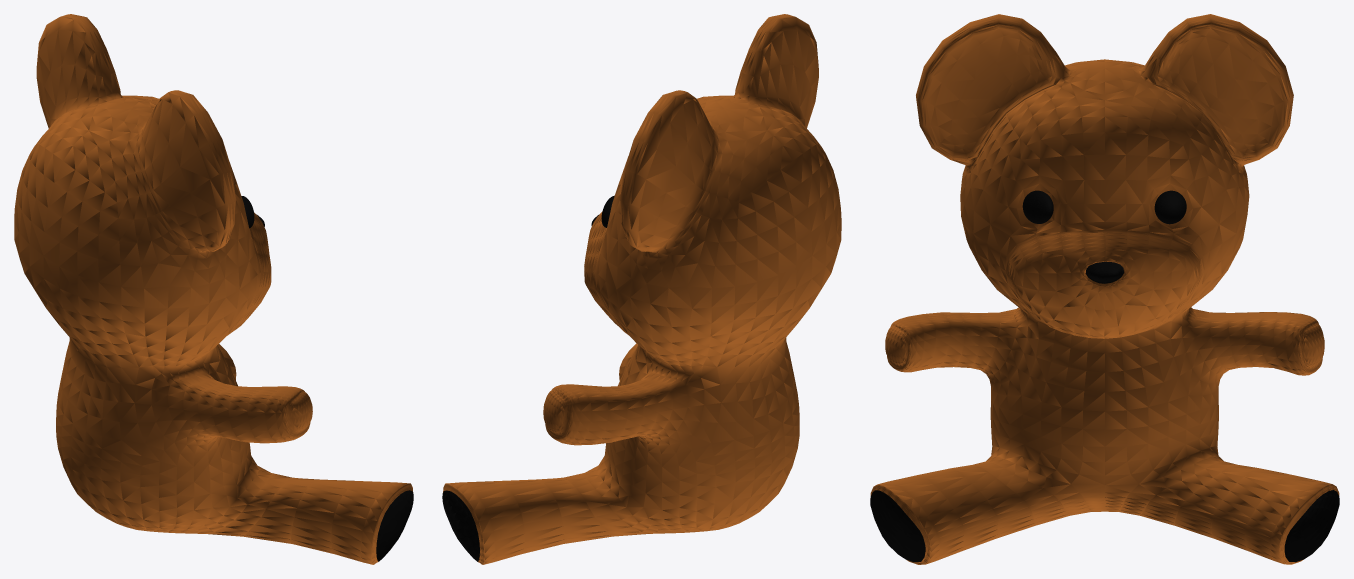
Rendered from bear.dae.
3 views of the same model, side by side, from view 1: azimuth 30°, elevation 25°; view 2: azimuth 150°, elevation 25°; view 3: azimuth 270°, elevation 25° (orthographic).
Visible parts, largest first — view 1: Bear Corona; view 2: Bear Corona; view 3: Bear Corona.
Part boxes in pixels (left/top/right/bottom): Bear Corona: left=14, top=14, right=413, bottom=564; Bear Corona: left=442, top=14, right=841, bottom=564; Bear Corona: left=870, top=14, right=1339, bottom=564.
Bounding box in the file's own units: 0.1221 × 0.1758 × 0.1955.
